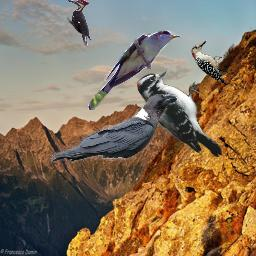Crow: (50, 94, 178, 163)
Cuckoo: (88, 30, 181, 110)
Woodpecker: (137, 71, 222, 157), (191, 40, 230, 85), (67, 0, 91, 47)
